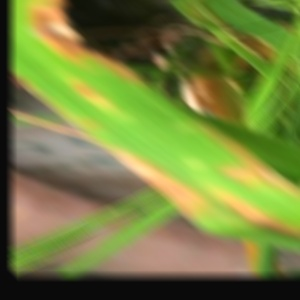Brown_Spot: (104, 136, 212, 228), (23, 0, 115, 60), (215, 141, 300, 199), (66, 75, 127, 115)
